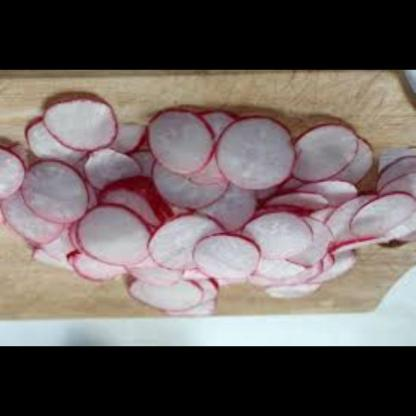rediska: (0, 86, 416, 325)
